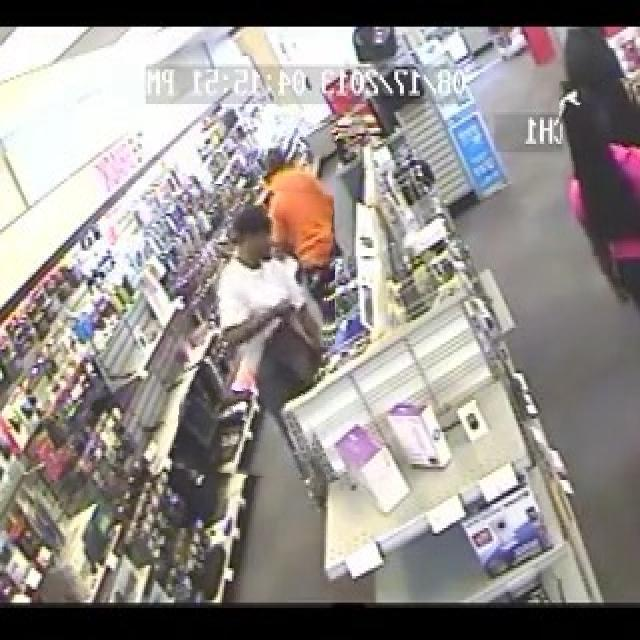Shoplifting: (180, 186, 326, 478)
normal: (241, 120, 335, 346), (562, 79, 640, 336)
